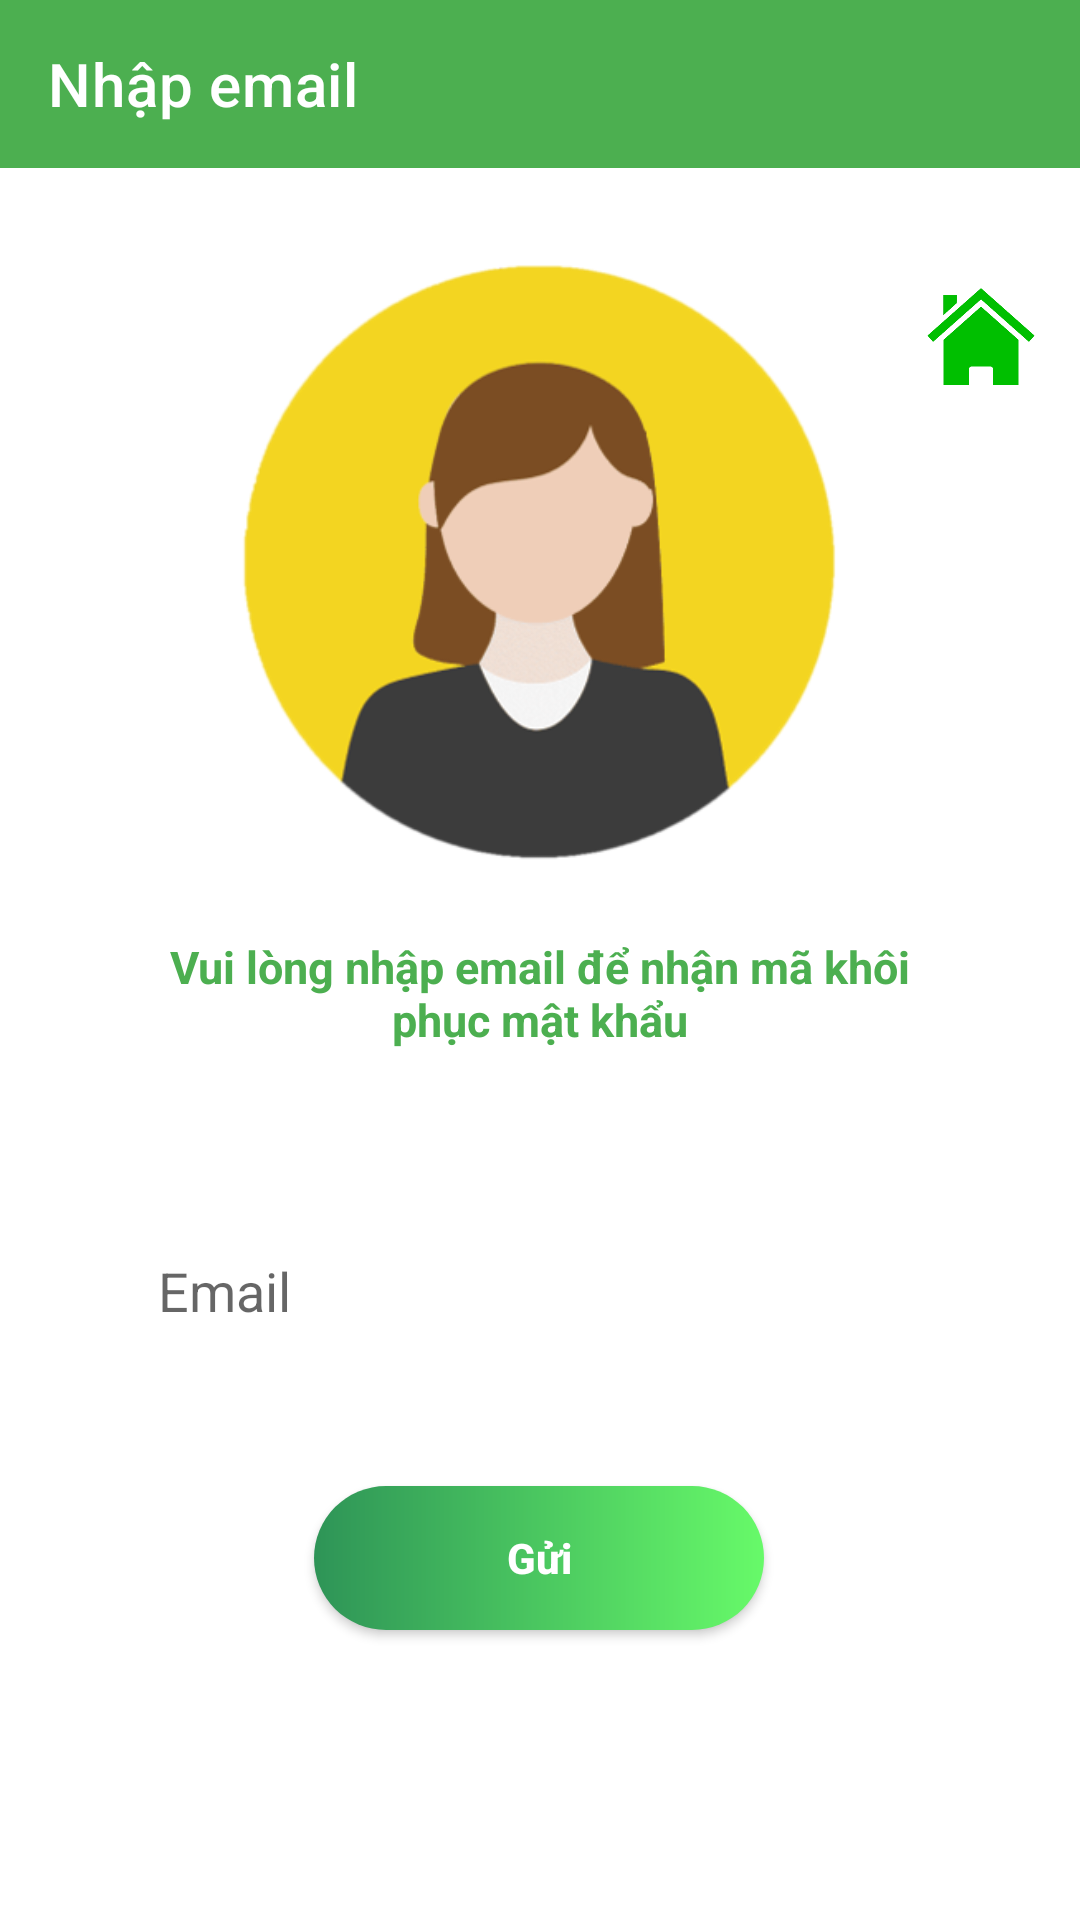

Icon click points for this 1080×1920 phone screenshot, format (x,y):
home: (981,336)
